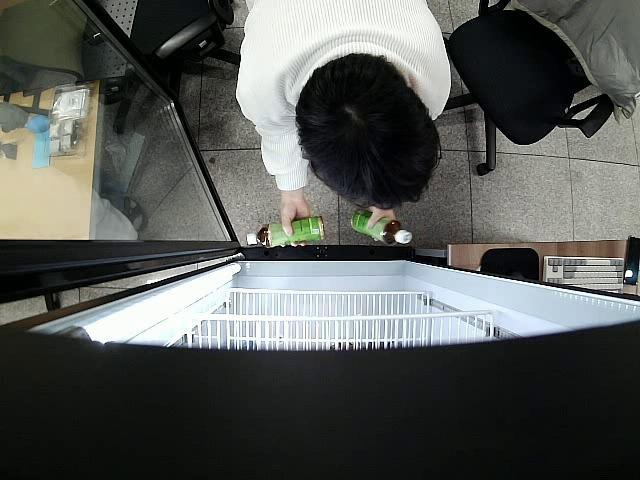19_17cha: (246, 218, 326, 247), (350, 210, 412, 245)
